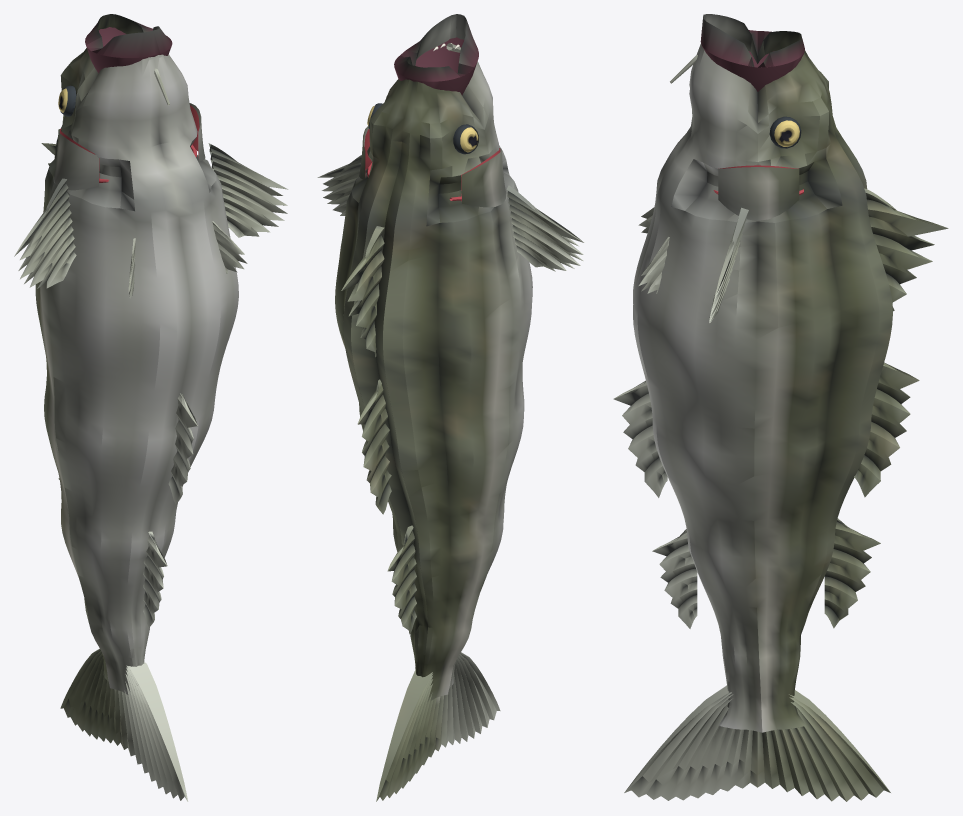
Rendered from fish_cod.glb.
3 views of the same model, side by side, from view 1: azimuth 30°, elevation 25°; view 2: azimuth 150°, elevation 25°; view 3: azimuth 270°, elevation 25° (orthographic). The views are drawn at different scales.
Visible parts, largest first — view 1: Fish_cod; view 2: Fish_cod; view 3: Fish_cod.
Boxes of the visible parts, x1,y1,x2,y2 form: Fish_cod: [14, 14, 288, 801]; Fish_cod: [317, 14, 584, 801]; Fish_cod: [613, 14, 948, 801].
Size of the model in its own units: 0.4513 by 1.18 by 0.4557.
